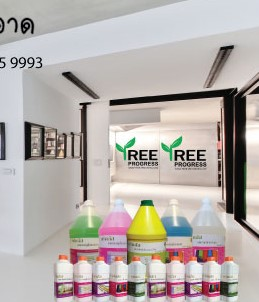Cleaning_solution: (125, 197, 169, 261), (157, 197, 200, 262), (189, 197, 230, 261), (98, 196, 137, 262), (68, 198, 100, 262), (52, 254, 74, 302), (201, 256, 222, 302), (72, 256, 93, 302), (146, 255, 166, 302), (221, 256, 241, 302), (109, 255, 128, 302), (184, 257, 203, 302), (166, 257, 185, 302), (128, 256, 146, 302), (92, 257, 110, 302)
